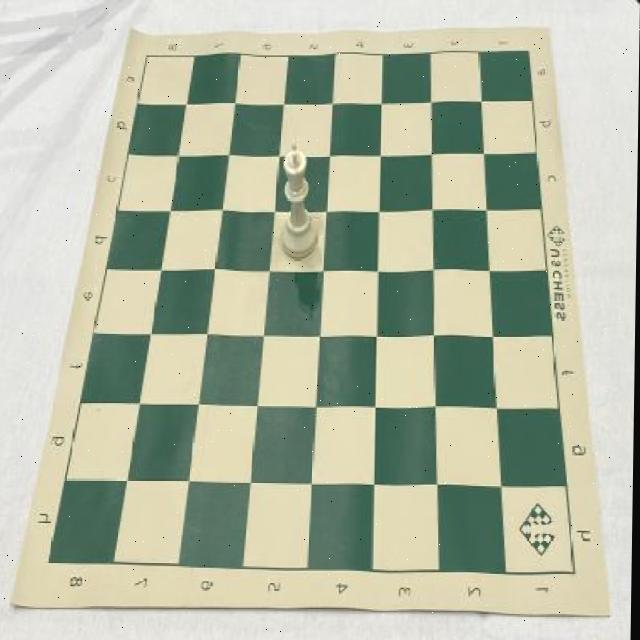white-bishop: (281, 140, 321, 261)
